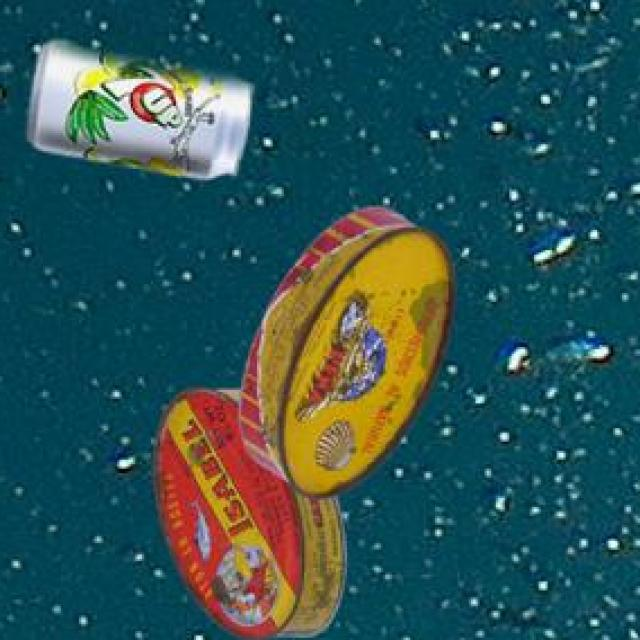logam: (242, 211, 459, 504), (157, 391, 350, 640), (30, 44, 255, 181)
